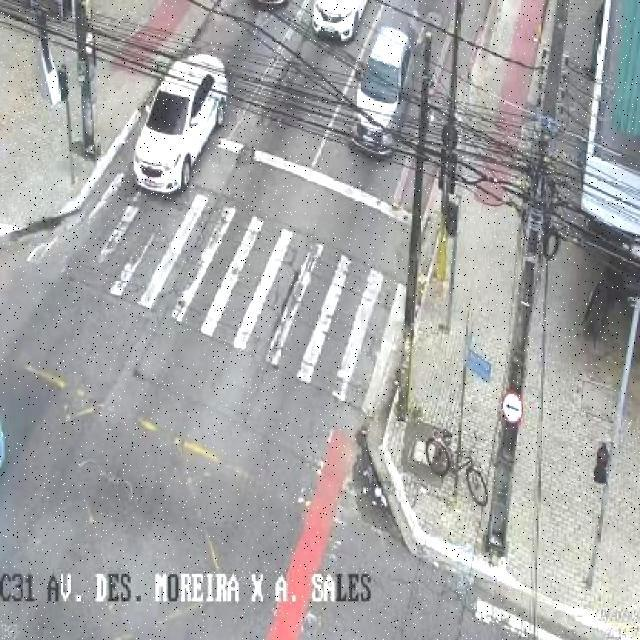Car: (133, 55, 226, 192), (347, 30, 419, 156), (311, 0, 367, 40)
Cycle: (422, 427, 490, 510)
